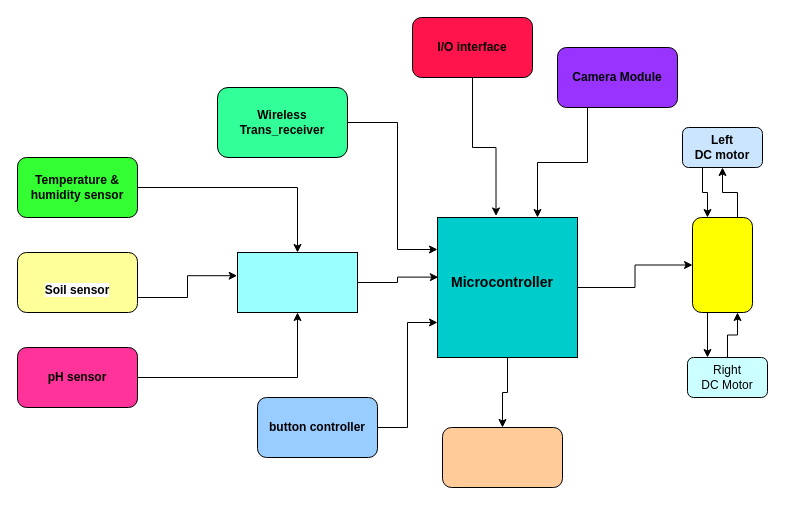
Image size: 785x505. Some labels were removed from this diagram. Each missing label, with the centre of its shape:
"LCD display" goes at pixel 502 457.
"Motor Driver" goes at pixel 722 264.
"Signal Conditioning" goes at pixel 297 282.
